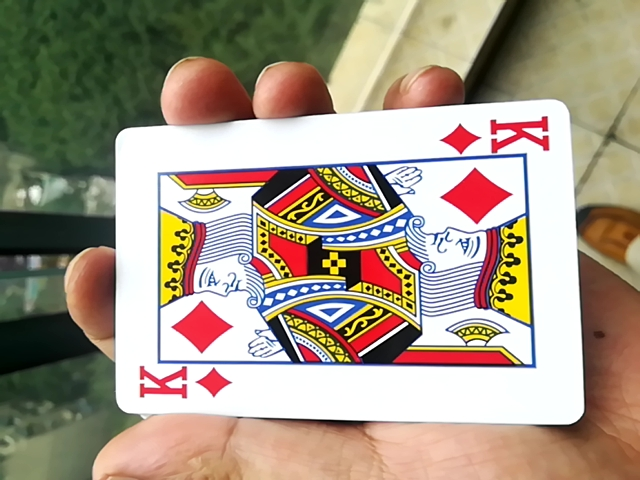fk k: (103, 105, 584, 426)
